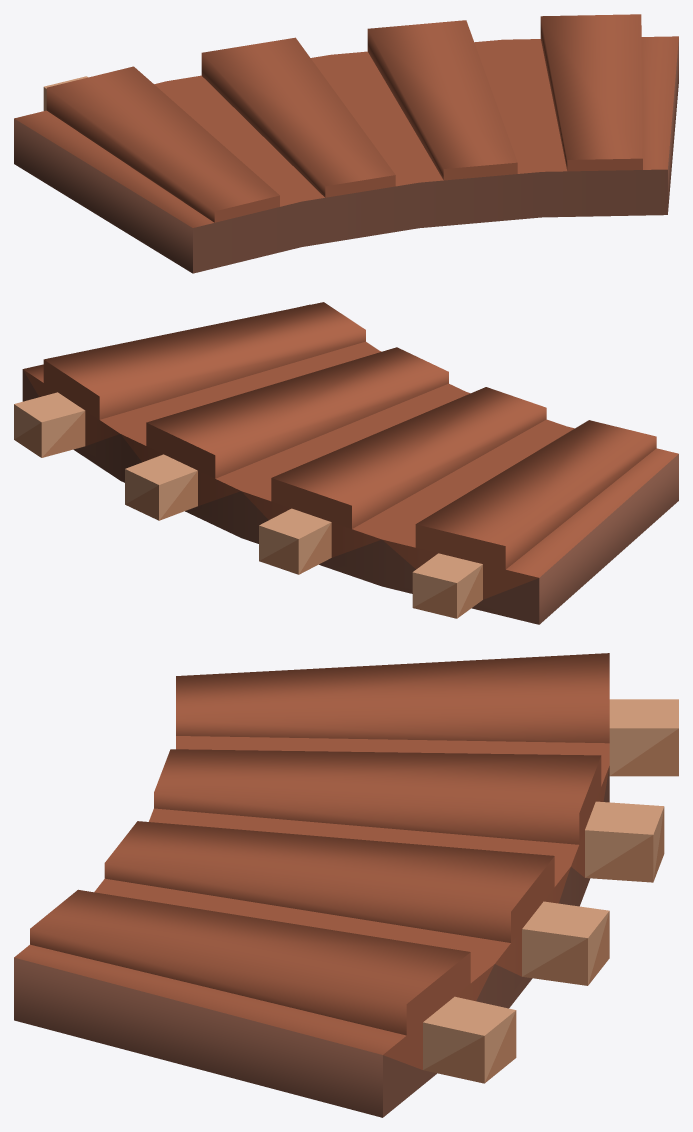
The model's file is costela.glb.
3 views of the same model, one above another, from view 1: azimuth 30°, elevation 25°; view 2: azimuth 150°, elevation 25°; view 3: azimuth 270°, elevation 25° (orthographic). The views are drawn at different scales.
Parts seen in each view (by area): view 1: meat-ribs; view 2: meat-ribs; view 3: meat-ribs.
Boxes of the visible parts, x1,y1,x2,y2 form: meat-ribs: [14, 14, 678, 273]; meat-ribs: [14, 302, 678, 624]; meat-ribs: [14, 653, 678, 1117].
Bounding box in the file's own units: 0.5354 × 0.06 × 0.3834.
